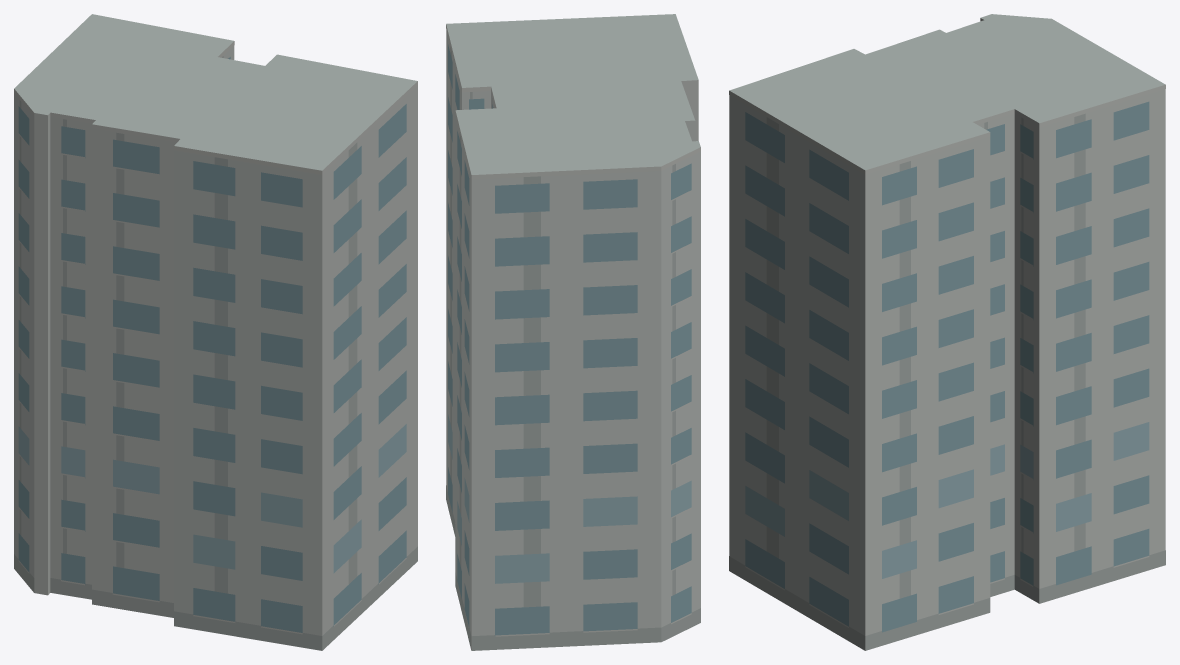
File: residential-62895290-1998-4d95-9937-324629517134.glb
3 views of the same model, side by side, from view 1: azimuth 30°, elevation 25°; view 2: azimuth 150°, elevation 25°; view 3: azimuth 270°, elevation 25° (orthographic).
Parts seen in each view (by area): view 1: residential-62895290-1998-4d95-9937-324629517134.tmp; view 2: residential-62895290-1998-4d95-9937-324629517134.tmp; view 3: residential-62895290-1998-4d95-9937-324629517134.tmp.
Boxes of the visible parts, x1,y1,x2,y2 form: residential-62895290-1998-4d95-9937-324629517134.tmp: (14, 14, 417, 650); residential-62895290-1998-4d95-9937-324629517134.tmp: (446, 14, 700, 650); residential-62895290-1998-4d95-9937-324629517134.tmp: (729, 14, 1165, 650).
Size of the model in its own units: 18.51 by 26.5 by 21.83.
